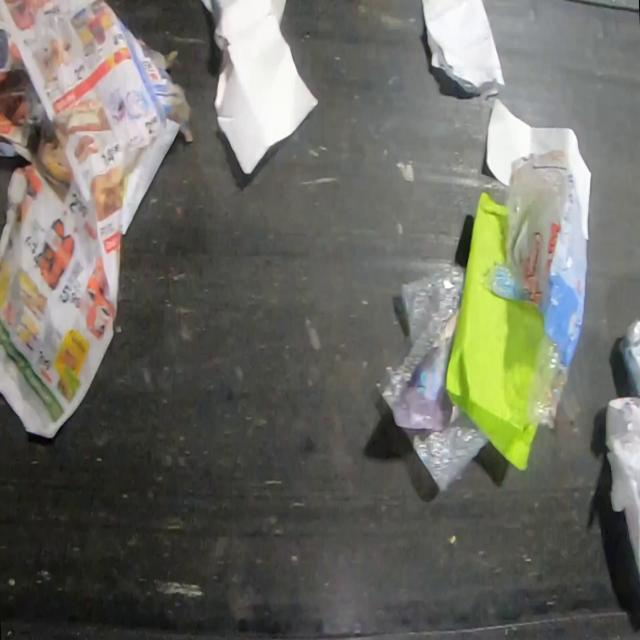cardboard: (616, 316, 640, 401)
soft_plastic: (473, 148, 589, 431), (375, 262, 490, 493)
